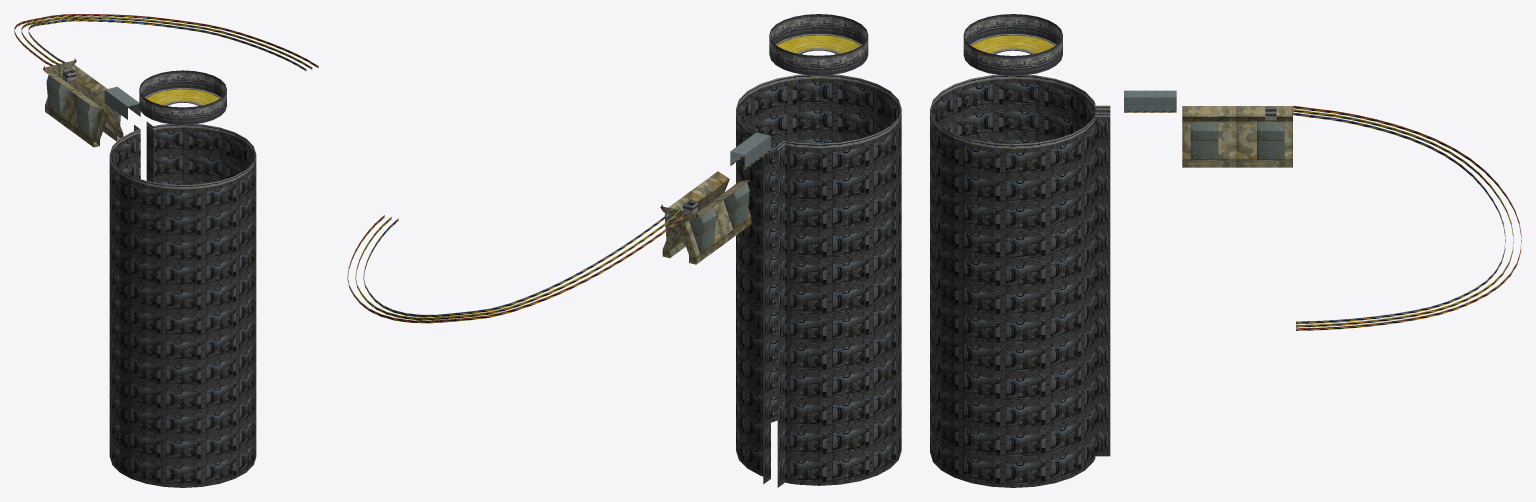
File: STG08_ON_24.obj
The picture shows the model from 3 angles, left to right: view 1: azimuth 30°, elevation 25°; view 2: azimuth 150°, elevation 25°; view 3: azimuth 270°, elevation 25°; orthographic projection. The views are drawn at different scales.
Parts seen in each view (by area): view 1: Object_2; view 2: Object_2; view 3: Object_2.
Boxes of the visible parts, x1=… form: Object_2: x1=14, y1=14, x2=318, y2=487; Object_2: x1=347, y1=14, x2=901, y2=487; Object_2: x1=930, y1=14, x2=1521, y2=487.
Bounding box in the file's own units: 1530 × 1664 × 2135.
